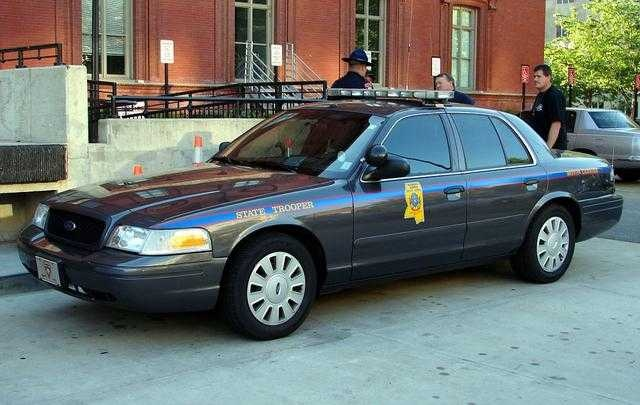Police Car: (33, 70, 630, 324)
